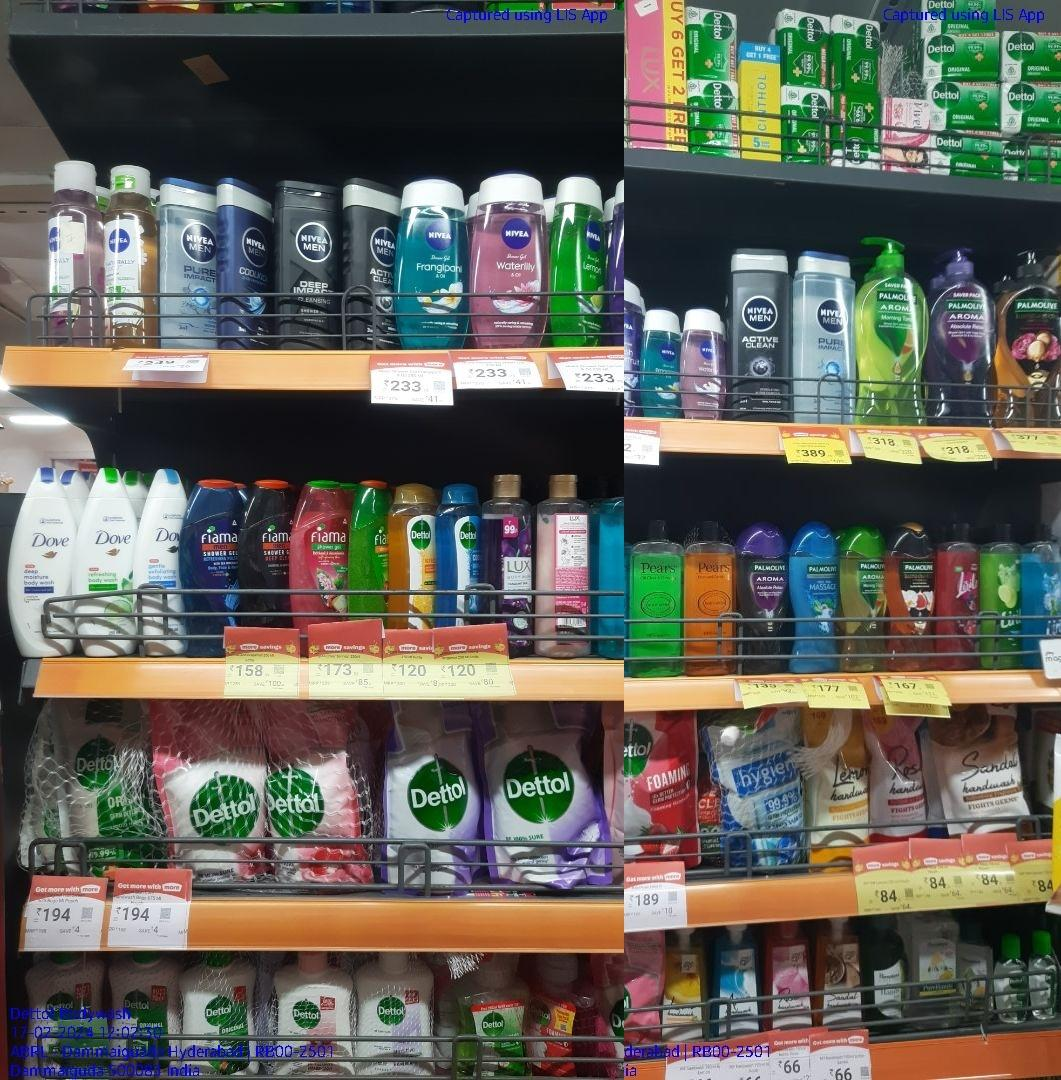Dettol_Bodywash_Cool: (438, 486, 485, 625)
Dettol_Bodywash_Refresh: (387, 484, 433, 628)
Dove_Deep_Moisture_Body_Wash_250ML: (9, 467, 73, 655)
Dove_Refreshing_Body_Wash_250ML: (77, 469, 142, 654)
Fiama_Shower_Gel_Patchouli_and_Macadamia_250ML: (290, 480, 347, 630)
Liril_Cooling_Mint_Body_Wash_250ML: (1023, 521, 1061, 670)
Liril_Lime_and_Tea_Tree_Oil_Body_Wash_250ML: (982, 523, 1022, 667)
Lux_Black_Orchid_Scent_and_Juniper_Oil_Body_Wash_245ML: (490, 474, 533, 653)
Nivea_Shower_Gel_Frangipani_and_Oil_250ML: (396, 181, 470, 347)
Nivea_Shower_Gel_Lemon_and_Oil_250ML: (554, 172, 604, 345)
Nivea_Shower_Gel_Waterlily_and_Oil_250ML: (472, 171, 547, 345)
Palmolive_Aroma_Moments_Feel_The_Massage_Shower_Gel_250ML: (790, 523, 839, 673)
Palmolive_Aroma_Morning_Tonic_Shower_Gel_250ML: (841, 526, 888, 671)
Palmolive_Aroma_Relax_250ML: (737, 525, 787, 675)
Palmolive_Luminous_Oils_With_White_Orchid_Shower_Gel_250ML: (890, 524, 937, 668)
Pears_Pure_Glycerin_and_Lemon_Flower_Extracts_Body_Wash_250ML: (628, 519, 685, 679)
